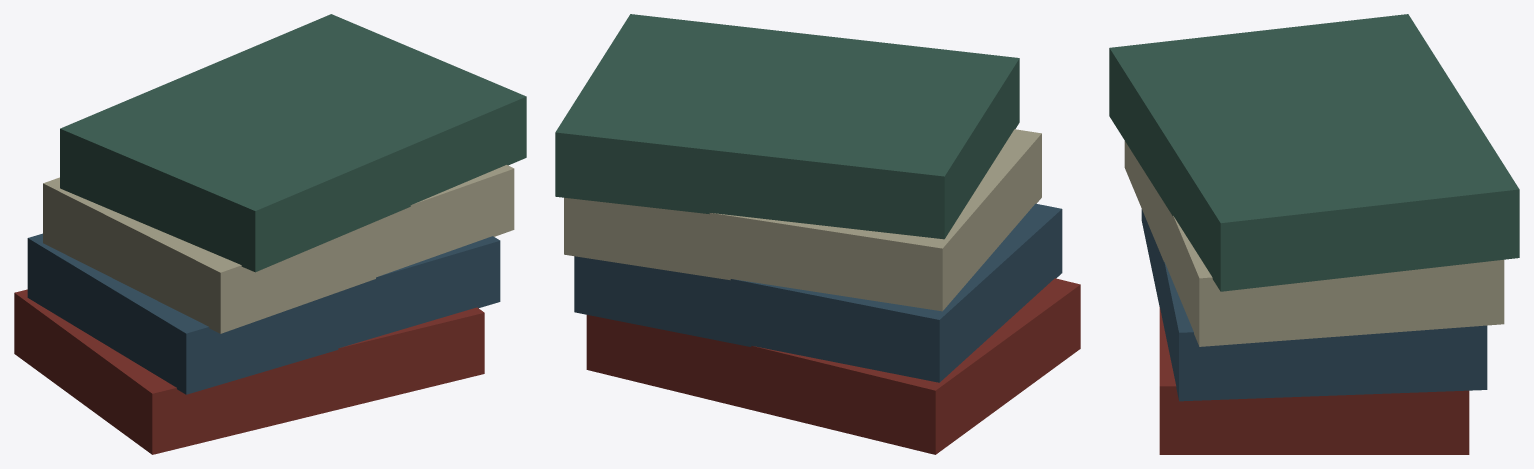
Rendered from book_stack.glb.
The picture shows the model from 3 angles, left to right: view 1: azimuth 30°, elevation 25°; view 2: azimuth 150°, elevation 25°; view 3: azimuth 270°, elevation 25°; orthographic projection. The views are drawn at different scales.
Parts seen in each view (by area): view 1: book_stack; view 2: book_stack; view 3: book_stack.
Boxes of the visible parts, bbox=[...] form: book_stack: bbox=[14, 14, 526, 454]; book_stack: bbox=[555, 14, 1080, 454]; book_stack: bbox=[1109, 14, 1519, 454].
Bounding box in the file's own units: 0.302 × 0.173 × 0.2386.
